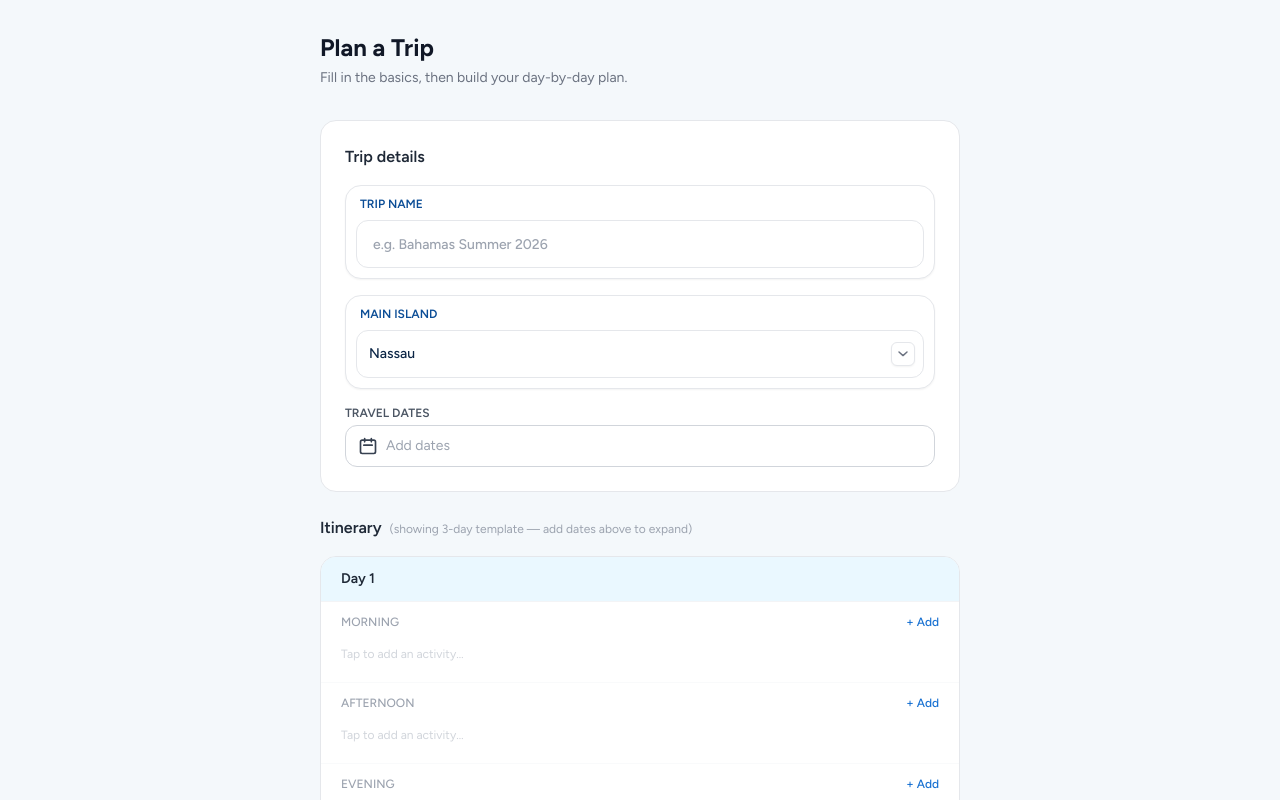
Test: TripBuilder activity search › lists approved tours plus real canonical attractions for the selected island
Click the 1st button "+ Add". click: x=923, y=622
box: [906,614,939,630]
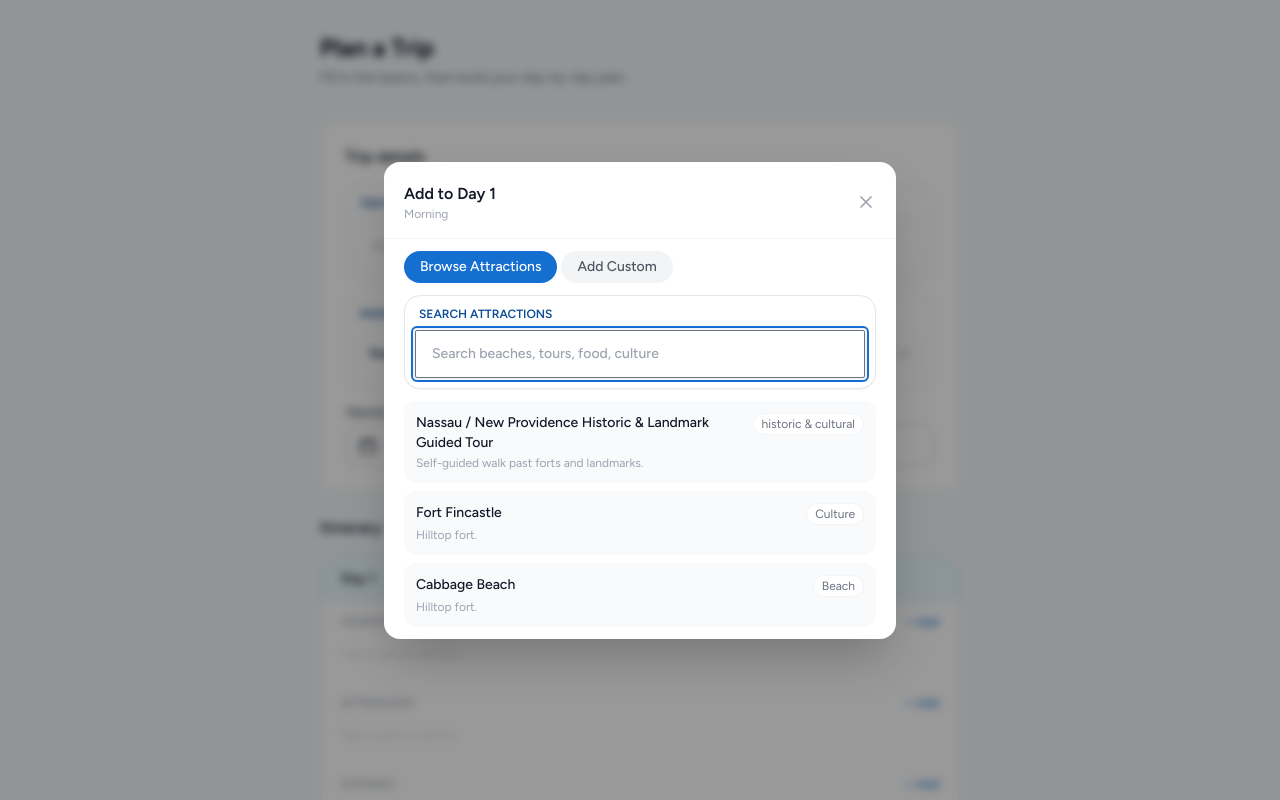
Expected: the text "Fort Fincastle" is shown, [416,502,502,522]
Expected: the text "Cabbage Beach" is shown, [416,574,515,594]
Expected: the text "Nassau / New Providence Historic & Landmark Guided Tour" is shown, [416,412,745,452]
